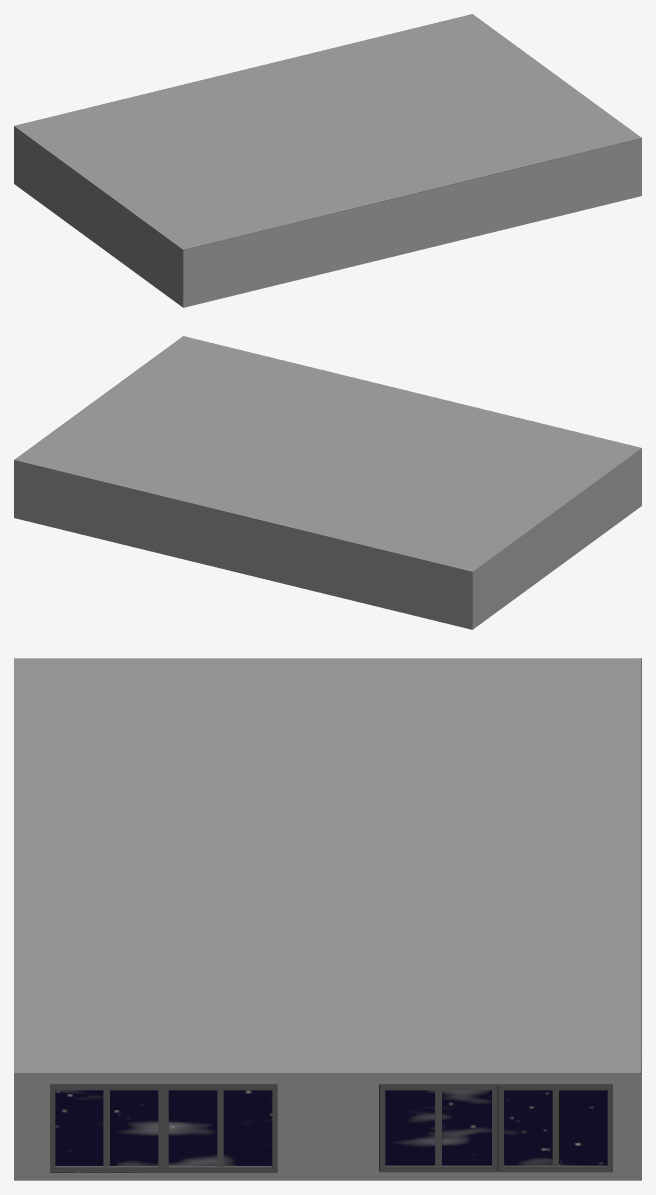
The model's file is office night6.fbx.
3 renders of one model, top to bottom at view 1: azimuth 30°, elevation 25°; view 2: azimuth 150°, elevation 25°; view 3: azimuth 270°, elevation 25°, orthographic. The views are drawn at different scales.
Parts seen in each view (by area): view 1: yuka; view 2: yuka; view 3: yuka.
Boxes of the visible parts, x1,y1,x2,y2 form: yuka: [14, 14, 641, 307]; yuka: [14, 336, 641, 629]; yuka: [14, 658, 641, 1180].
Size of the model in its own units: 2458 by 296 by 1570.
